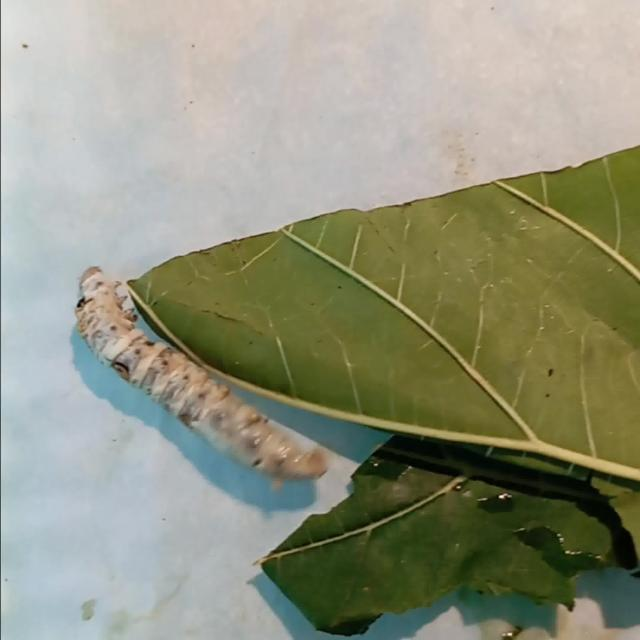Grasserie: (68, 246, 338, 518)
